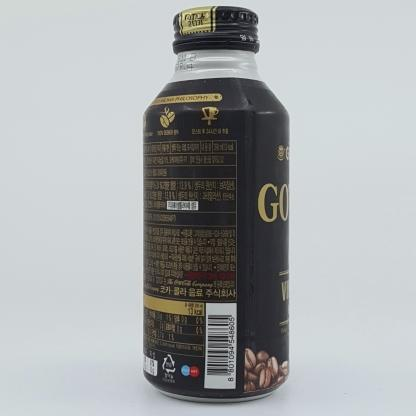-----------390ML: (143, 6, 290, 402)
